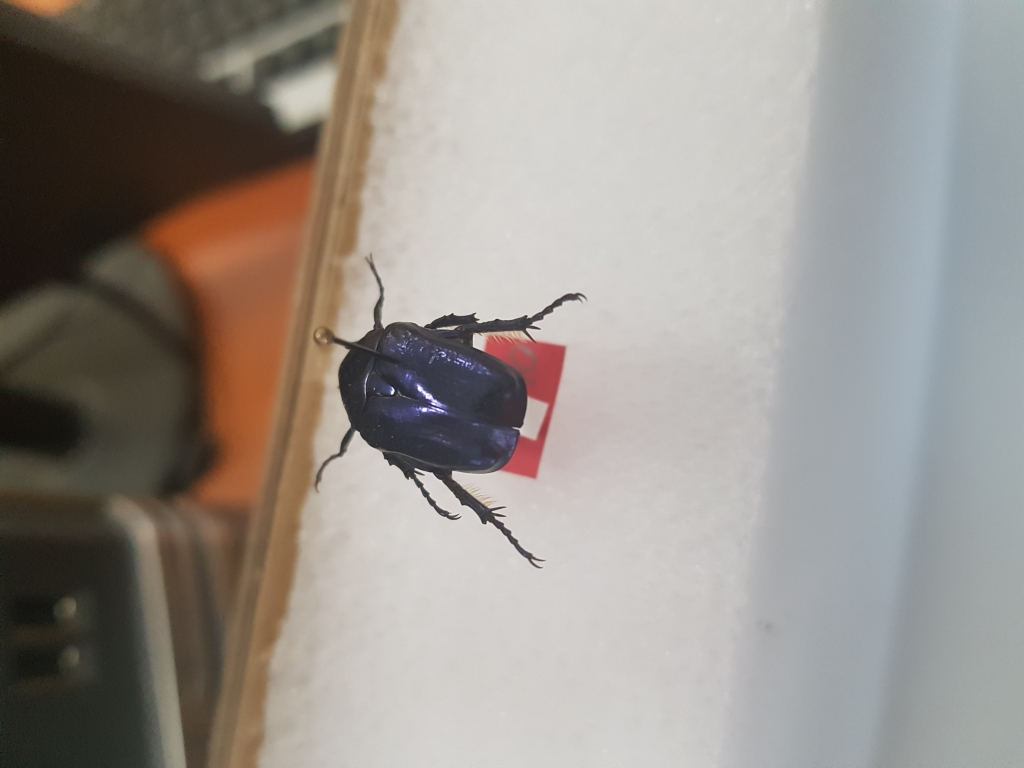Protaetia_besucheti: (295, 246, 606, 571)
